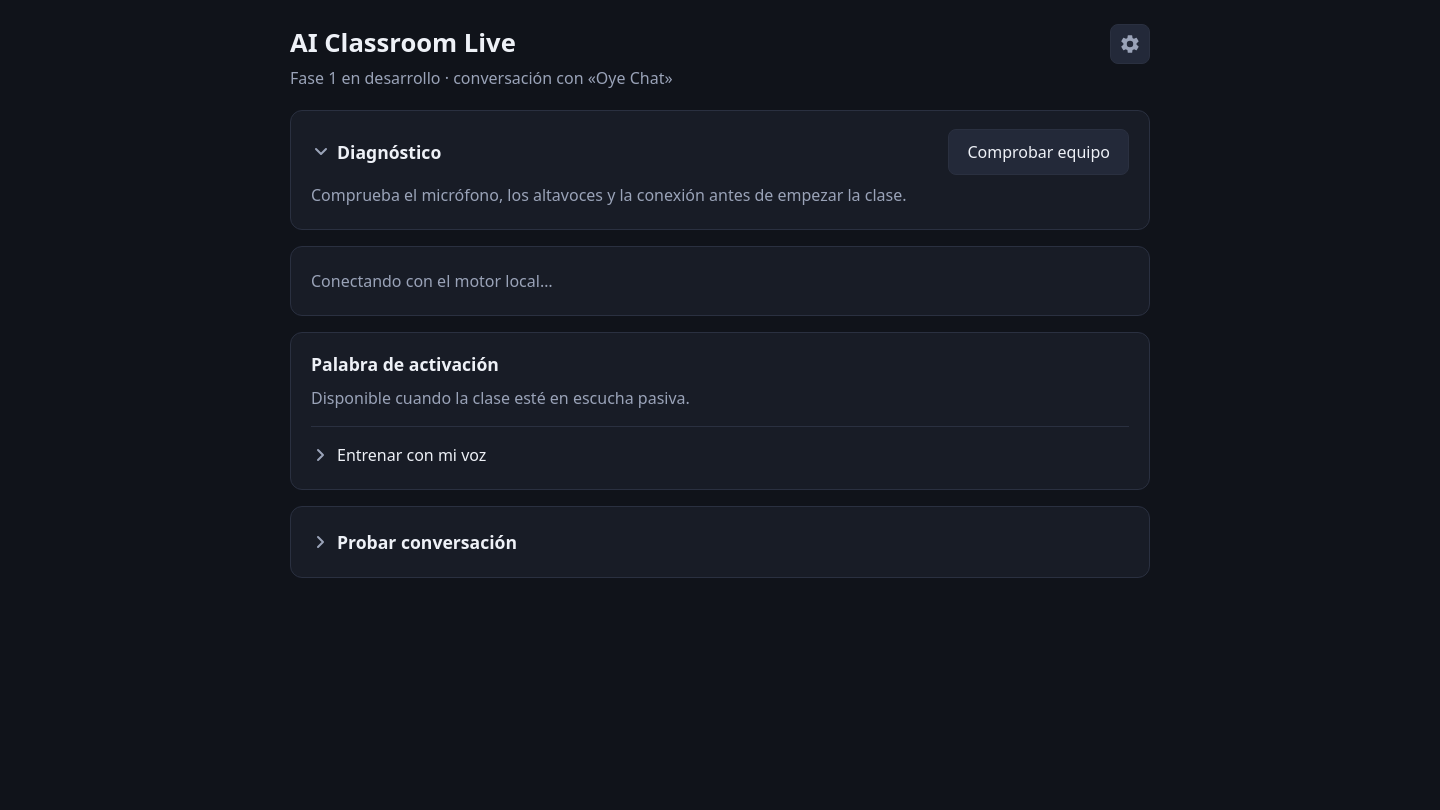
Scenario: App, configuración › abre la configuración desde la rueda dentada y la cierra
Click the button named "Configuración". click: point(1130, 44)
box: [1110, 24, 1150, 64]
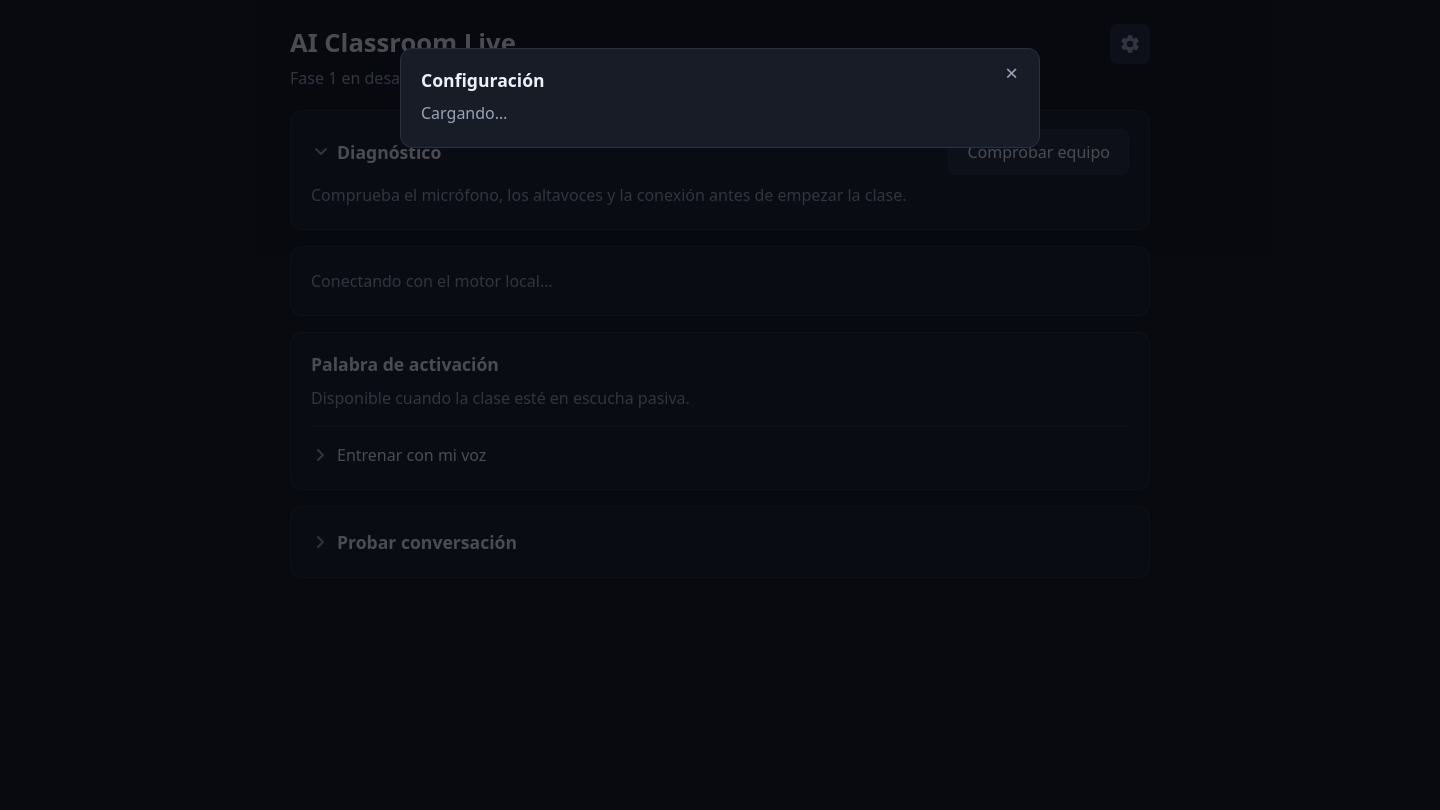
Result: the dialog "Configuración" is shown at [400, 48, 1040, 148]
Click the button named "Cerrar". click: point(1012, 73)
box: [994, 59, 1029, 87]
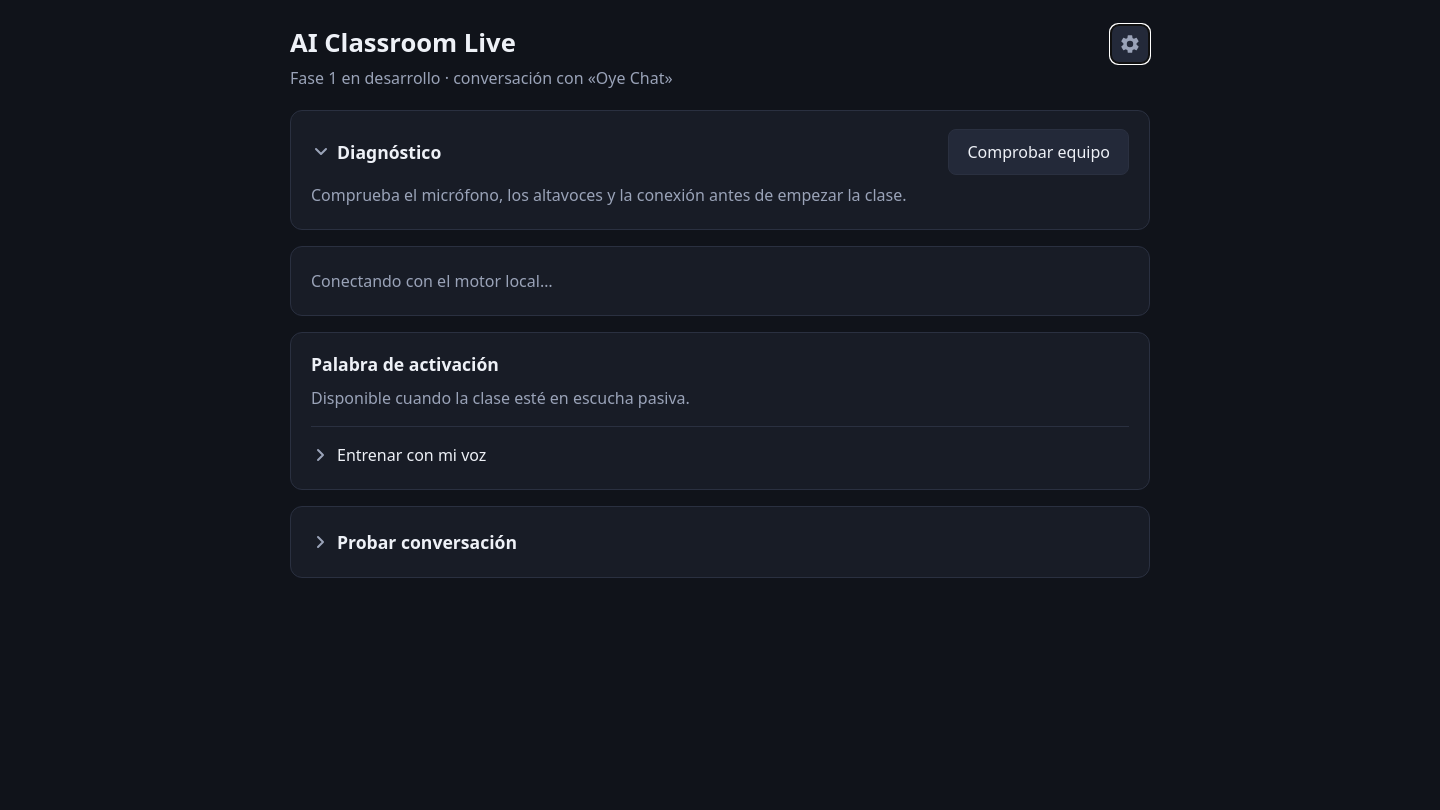
Result: the dialog is gone
